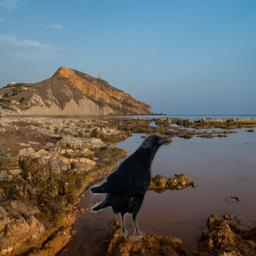Crow: (90, 132, 171, 242)
